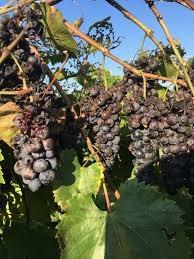Grape Rotten: (0, 2, 194, 194)
